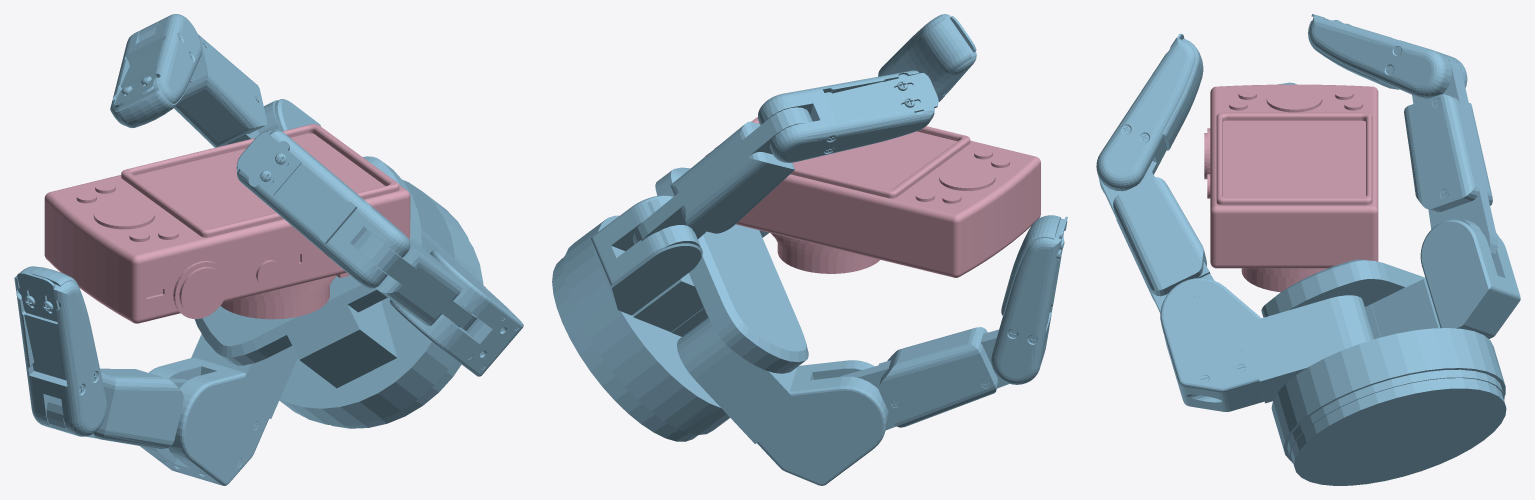
The picture shows the model from 3 angles, left to right: view 1: azimuth 30°, elevation 25°; view 2: azimuth 150°, elevation 25°; view 3: azimuth 270°, elevation 25°; orthographic projection. The views are drawn at different scales.
Parts seen in each view (by area): view 1: world, camera.stl; view 2: world, camera.stl; view 3: world, camera.stl.
Boxes of the visible parts, <box> form: world: <box>14,14,523,485</box>; camera.stl: <box>44,124,410,323</box>; world: <box>552,14,1067,485</box>; camera.stl: <box>705,117,1040,277</box>; world: <box>1096,14,1520,485</box>; camera.stl: <box>1204,84,1378,292</box>.
Size of the model in its own units: 0.1989 by 0.1683 by 0.1634.
